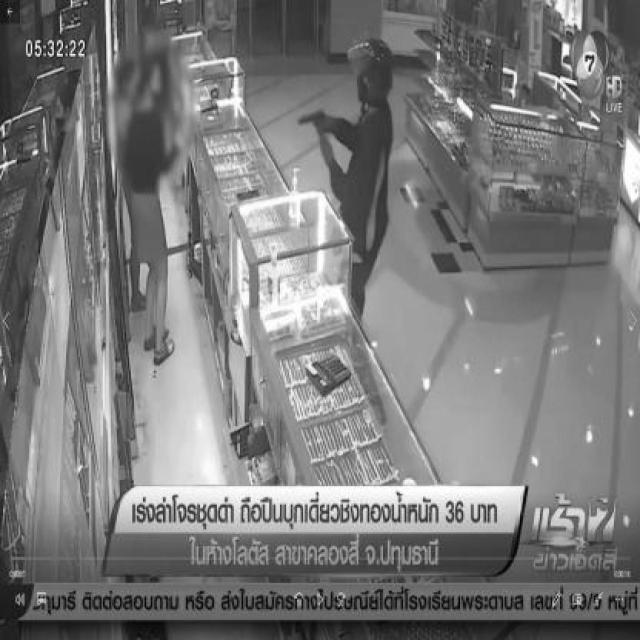weapon: (297, 111, 328, 134)
